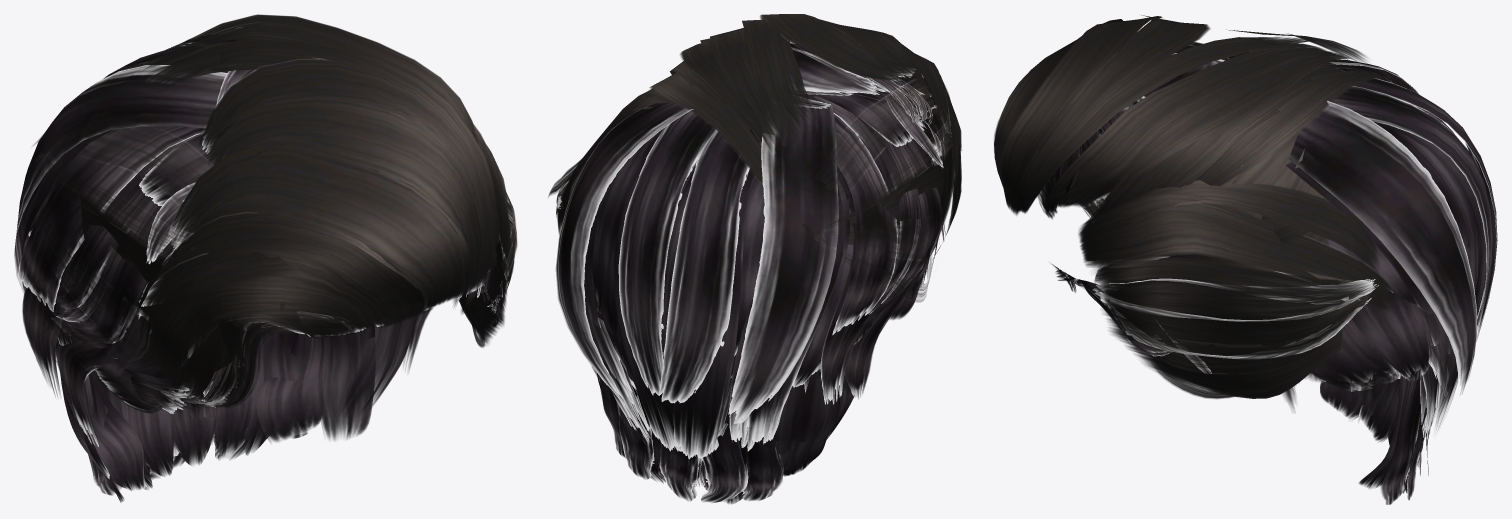
Rendered from RectangleStraightSidePart.glb.
3 renders of one model, left to right at view 1: azimuth 30°, elevation 25°; view 2: azimuth 150°, elevation 25°; view 3: azimuth 270°, elevation 25°, orthographic. The views are drawn at different scales.
Parts seen in each view (by area): view 1: SIDE PART.002, SIDE PART.003, SIDE PART.004, SIDE PART.005, SIDE PART.006; view 2: SIDE PART.003, SIDE PART.004, SIDE PART.002, SIDE PART.001, SIDE PART.005; view 3: SIDE PART.002, SIDE PART.003, SIDE PART.004, SIDE PART.001.
Boxes of the visible parts, x1=… form: SIDE PART.002: x1=20, y1=14, x2=517, y2=413; SIDE PART.003: x1=14, y1=37, x2=503, y2=501; SIDE PART.004: x1=14, y1=43, x2=497, y2=501; SIDE PART.005: x1=156, y1=301, x2=360, y2=403; SIDE PART.006: x1=200, y1=311, x2=358, y2=408; SIDE PART.003: x1=556, y1=41, x2=945, y2=503; SIDE PART.004: x1=556, y1=48, x2=962, y2=503; SIDE PART.002: x1=548, y1=14, x2=961, y2=317; SIDE PART.001: x1=670, y1=61, x2=822, y2=244; SIDE PART.005: x1=917, y1=107, x2=953, y2=243; SIDE PART.002: x1=994, y1=15, x2=1401, y2=399; SIDE PART.003: x1=1051, y1=57, x2=1497, y2=504; SIDE PART.004: x1=1037, y1=57, x2=1497, y2=499; SIDE PART.001: x1=1083, y1=65, x2=1353, y2=226.
Bounding box in the file's own units: 0.2155 × 0.2417 × 0.2514.
2 materials, 2 textured.
